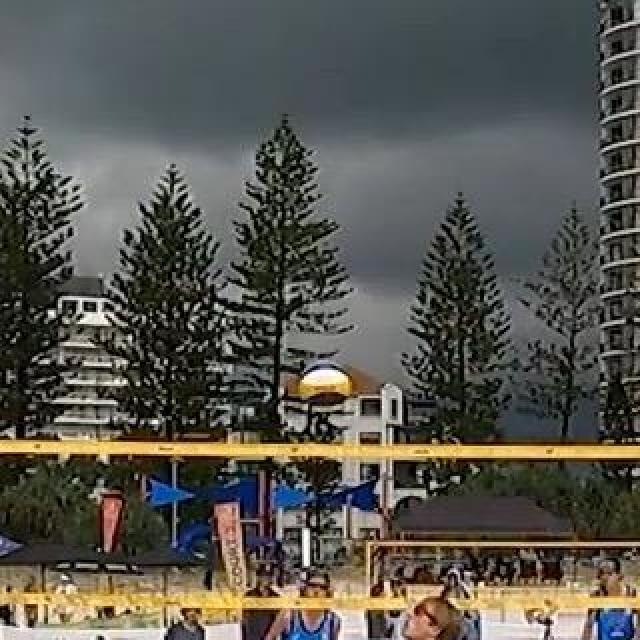volleyball: (299, 363, 351, 407)
